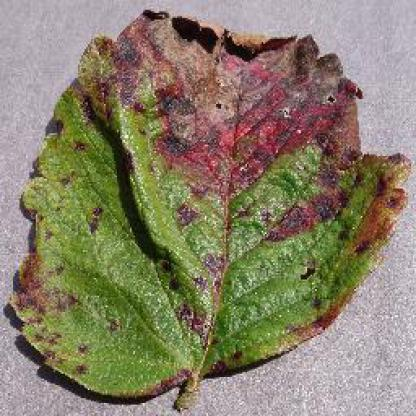leaf scorch: (5, 6, 409, 410)
